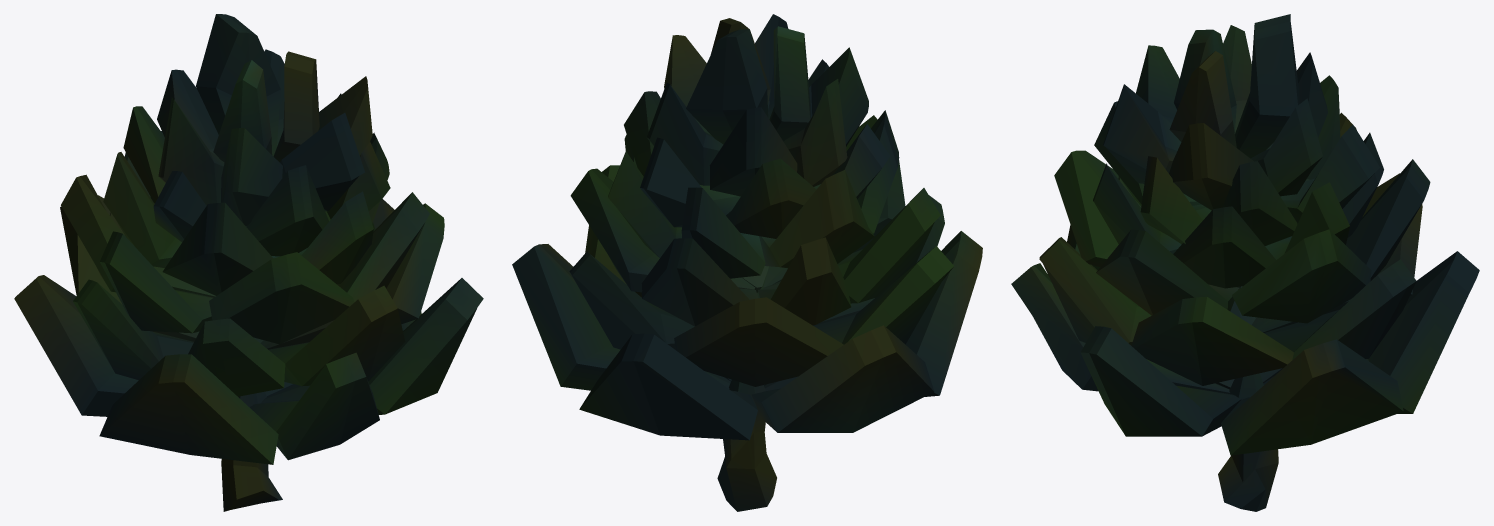
The picture shows the model from 3 angles, left to right: view 1: azimuth 30°, elevation 25°; view 2: azimuth 150°, elevation 25°; view 3: azimuth 270°, elevation 25°; orthographic projection.
Visible parts, largest first — view 1: Cube.7635; view 2: Cube.7635; view 3: Cube.7635.
Part boxes in pixels (x1=…): Cube.7635: x1=14, y1=14, x2=483, y2=511; Cube.7635: x1=512, y1=14, x2=982, y2=511; Cube.7635: x1=1011, y1=14, x2=1479, y2=511.
Bounding box in the file's own units: 58.96 × 72.14 × 62.72.
